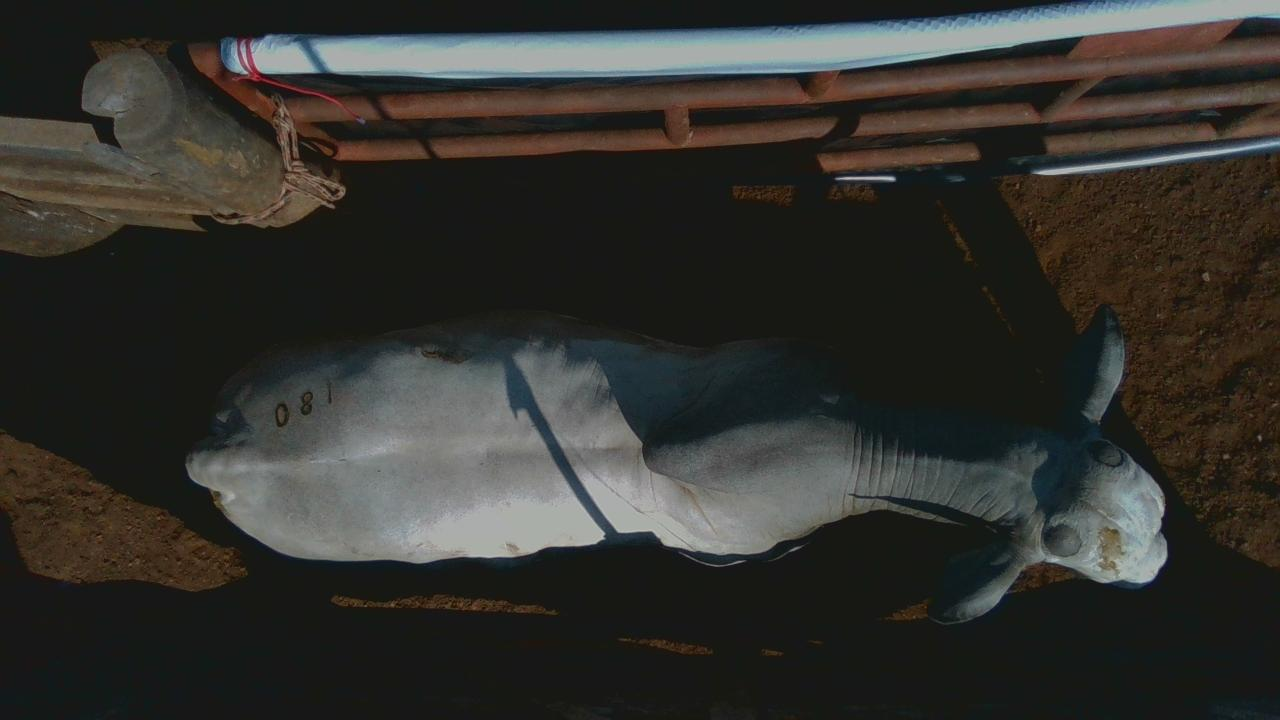cattle: (184, 299, 1169, 624)
